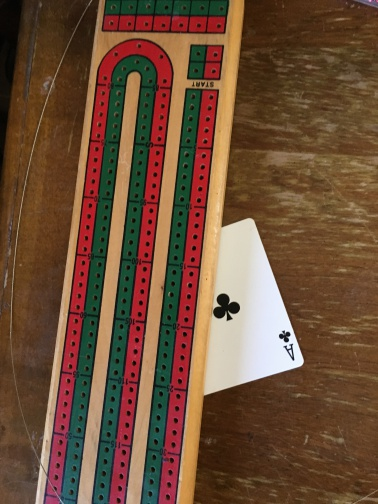ace: (203, 217, 305, 396)
